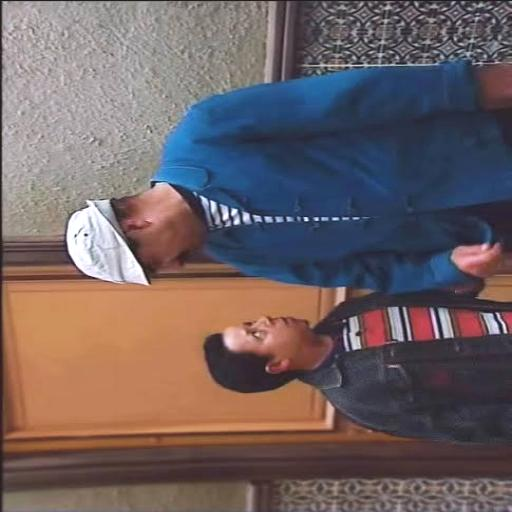beji_matrix: (67, 183, 205, 283)
fouchika: (213, 315, 324, 372)
